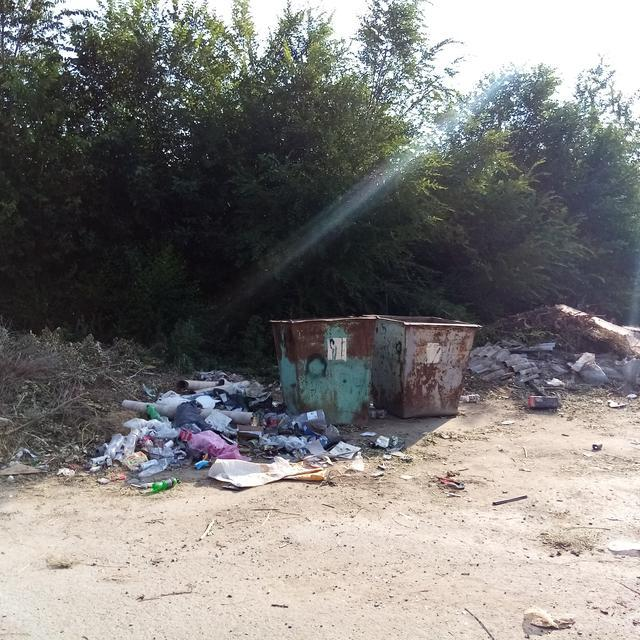Trash_Can_Empty: (365, 315, 480, 418), (272, 318, 375, 424)
